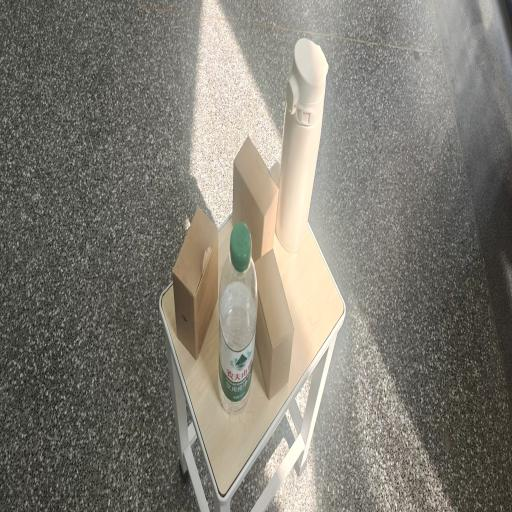bottle: (276, 38, 328, 252), (218, 222, 258, 414)
box: (172, 207, 218, 359), (255, 249, 294, 399), (232, 137, 278, 262)
